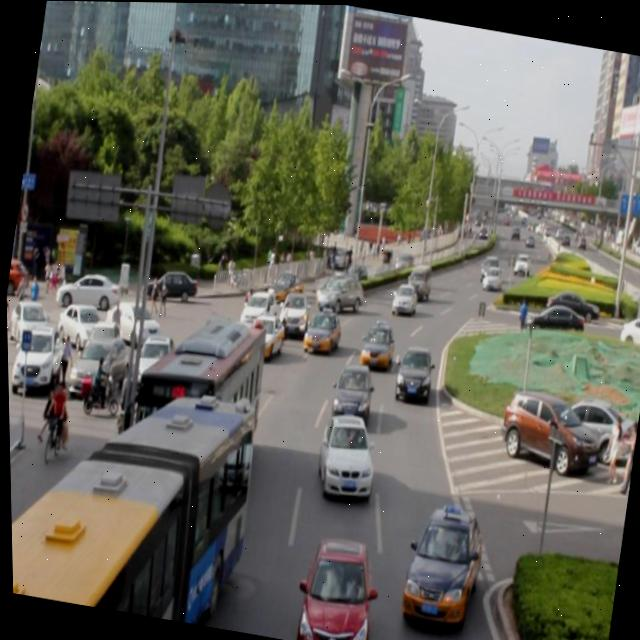car: (393, 495, 484, 629), (291, 531, 376, 640), (310, 409, 379, 498), (390, 341, 435, 402), (327, 360, 372, 419), (195, 316, 239, 374), (237, 311, 287, 362), (271, 285, 316, 340), (298, 303, 343, 354), (314, 269, 365, 312), (356, 318, 395, 371), (312, 265, 357, 309), (237, 285, 277, 334), (388, 280, 417, 317)
truck: (401, 259, 433, 302)
van: (6, 356, 262, 630), (126, 309, 273, 502)
